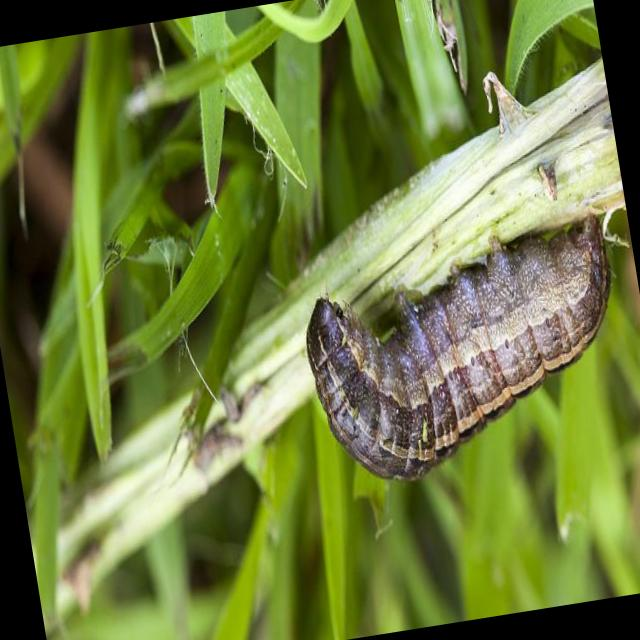armyworm: (288, 208, 640, 504)
